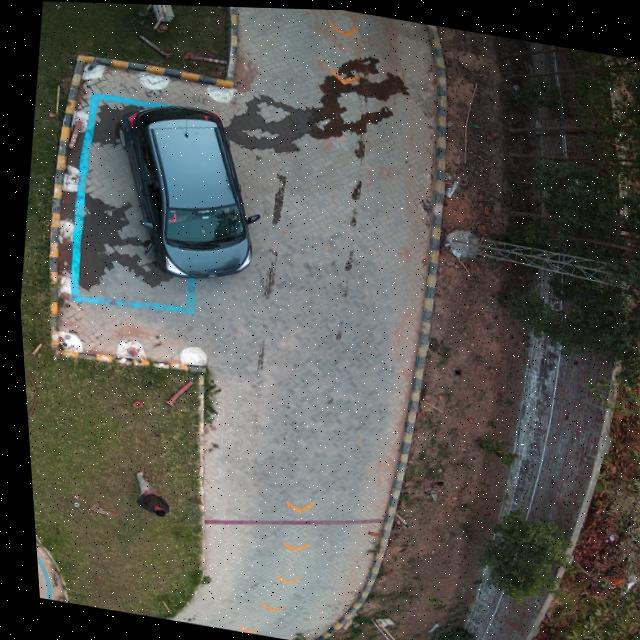car: (119, 104, 247, 278)
